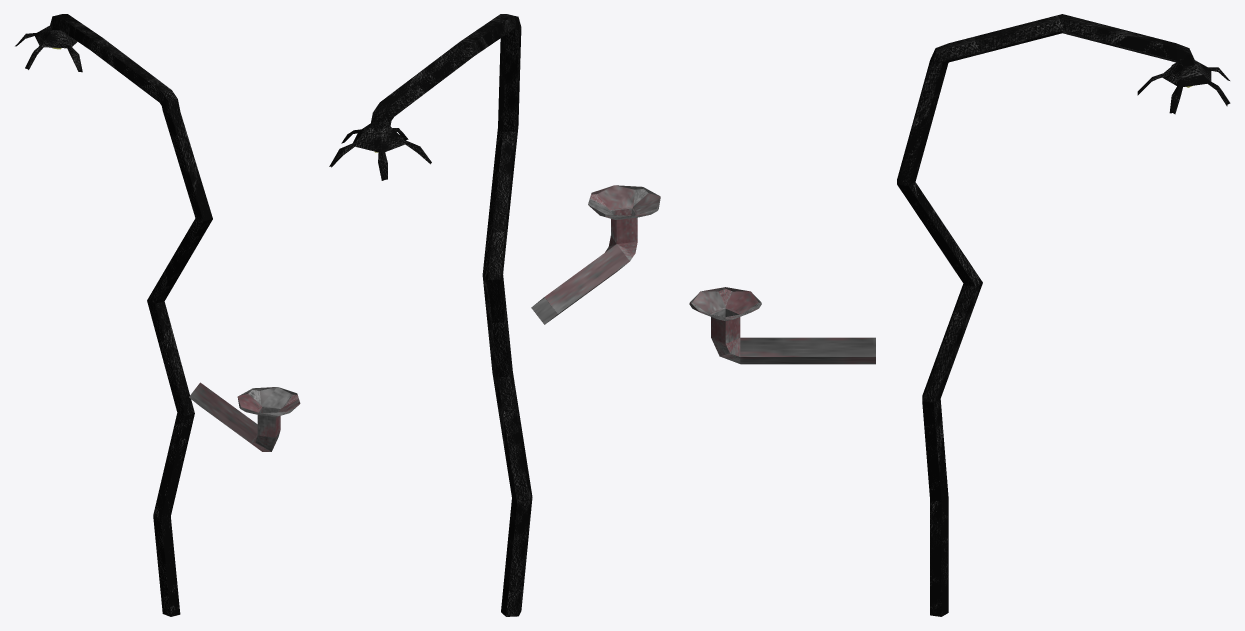
Rendered from lights .fbx.
The picture shows the model from 3 angles, left to right: view 1: azimuth 30°, elevation 25°; view 2: azimuth 150°, elevation 25°; view 3: azimuth 270°, elevation 25°; orthographic projection. The views are drawn at different scales.
Parts seen in each view (by area): view 1: Cylinder, shed light; view 2: Cylinder, shed light; view 3: Cylinder, shed light.
Part boxes in pixels (x1,y1,x2,y2): Cylinder: (15,14,212,616); shed light: (189,382,300,451); Cylinder: (329,14,532,616); shed light: (531,185,660,324); Cylinder: (897,14,1230,616); shed light: (689,287,875,364).
Bounding box in the file's own units: 66.83 × 444 × 371.
3 materials, 2 textured.
